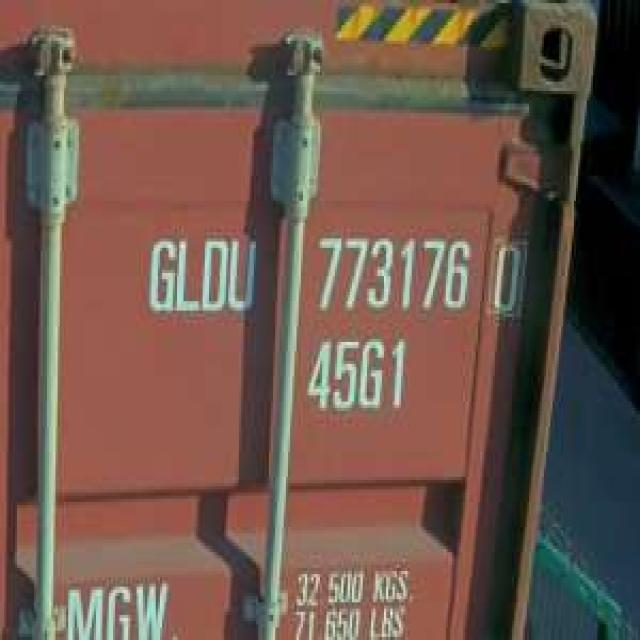dv: (485, 231, 529, 319)
owner: (140, 228, 262, 323)
serial: (311, 230, 471, 319)
size: (304, 334, 408, 418)
